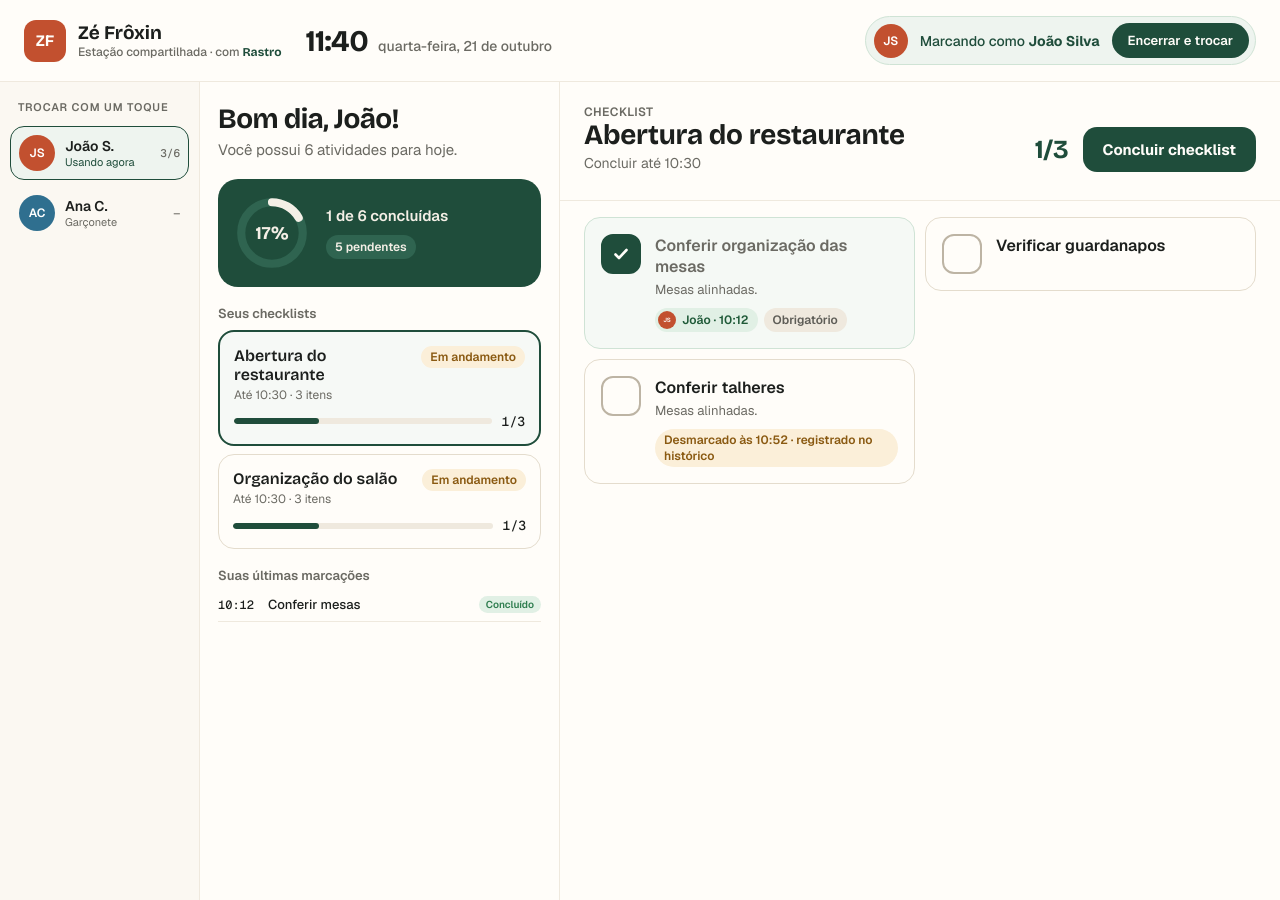
Test: US10 — estação de trabalho › trocar pela coluna Equipe faz login do colega (sucesso)
What coordinates should you click on to do the following:
click the button "AC Ana C. Garçonete —"
I would click on:
 (100, 213)
Its box is [10,186,189,240].
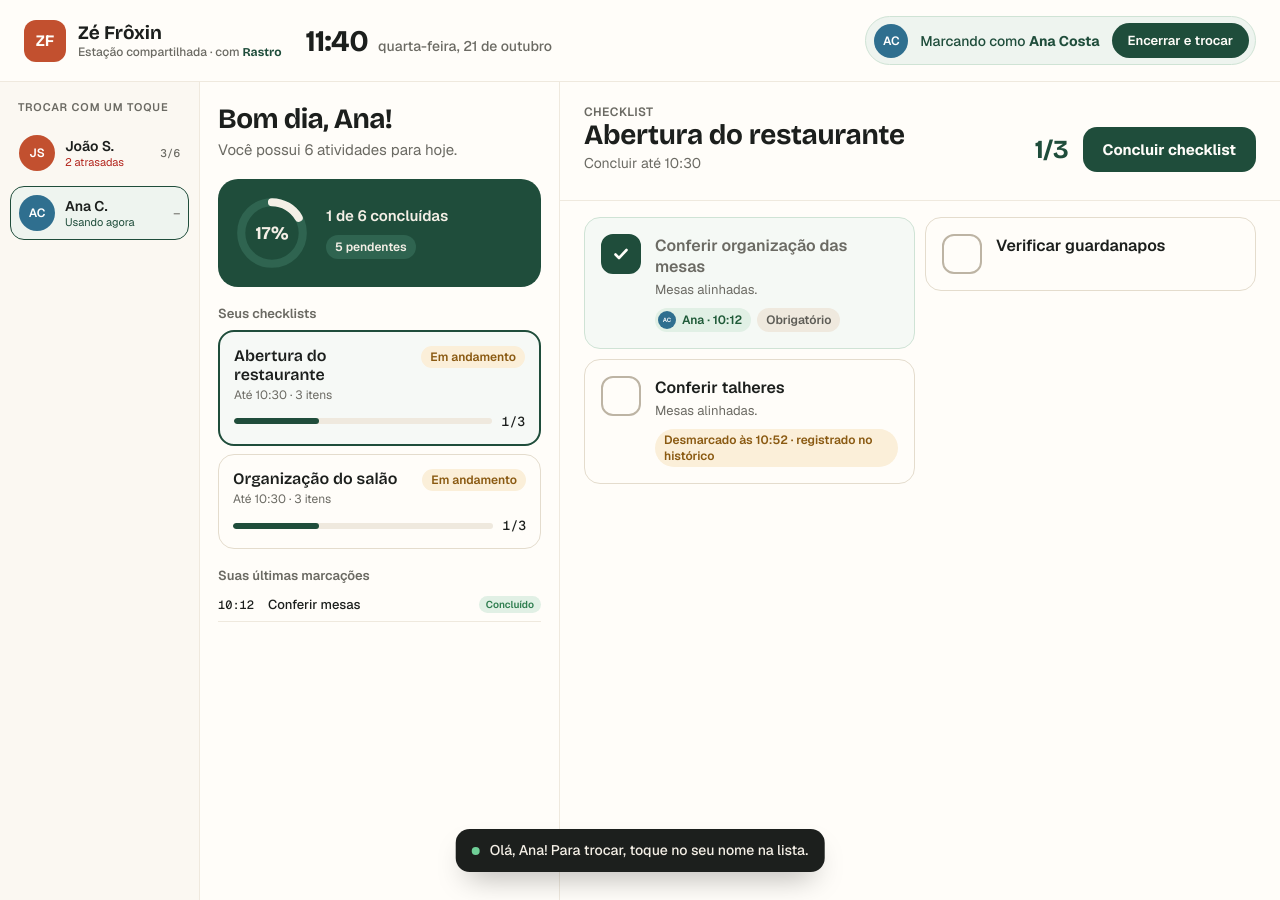
expect the heading "Bom dia, Ana!" is shown: met, box [218,102,392,136]
